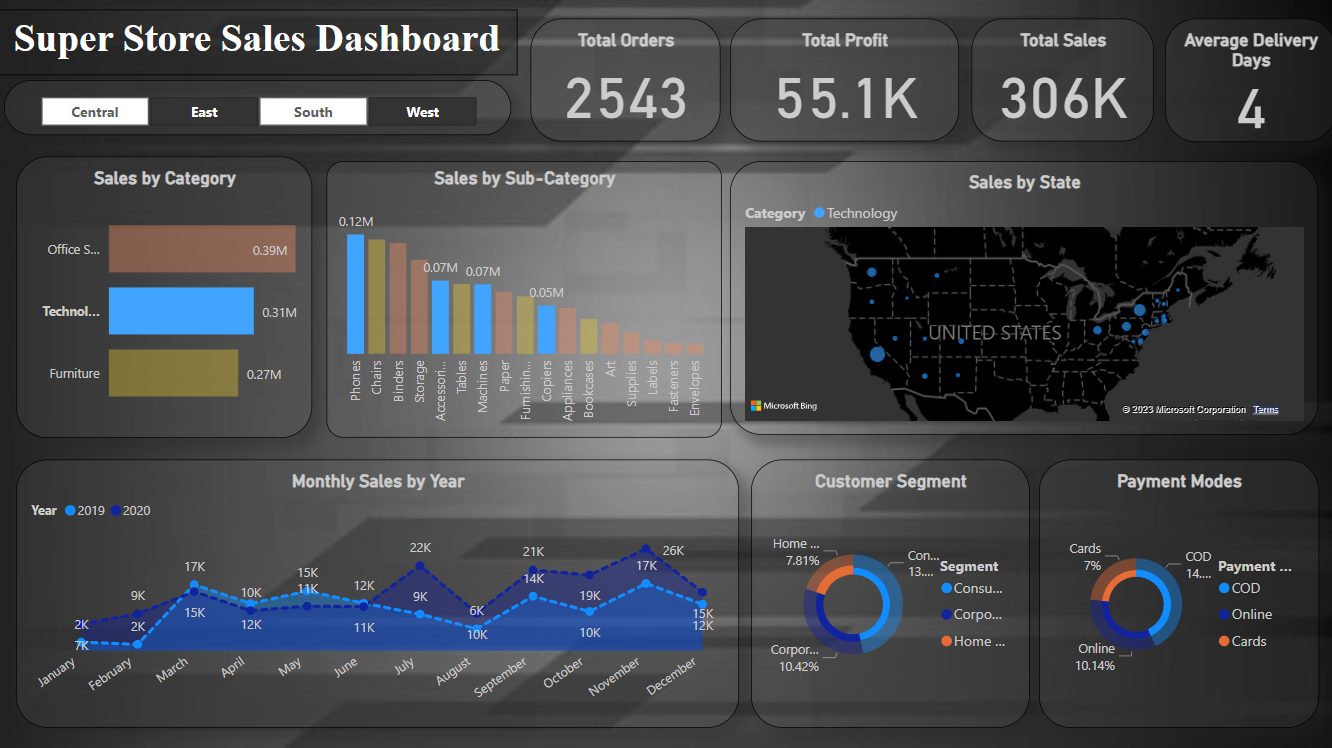

This screenshot's page, from the dashboard's own definition file:
{"tool":"powerbi","page":{"name":"Dashboard","canvas":[1280,720],"ordinal":0},"visuals":[{"type":"barChart","title":"Sales by Category","fields":{"Category":["SuperStore_Sales_Dataset.Category"],"Y":["Sum(SuperStore_Sales_Dataset.Sales)"]},"box":[20,152.9,282.9,268.6],"z":0},{"type":"columnChart","title":"Sales by Sub-Category","fields":{"Category":["SuperStore_Sales_Dataset.Sub-Category"],"Y":["Sum(SuperStore_Sales_Dataset.Sales)"]},"box":[315.7,157.1,377.1,264.3],"z":1000},{"type":"areaChart","title":"Monthly Sales by Year","fields":{"Category":["SuperStore_Sales_Dataset.Order Date.Variation.Date Hierarchy.Month"],"Series":["SuperStore_Sales_Dataset.Order Date.Variation.Date Hierarchy.Year"],"Y":["Sum(SuperStore_Sales_Dataset.Sales)"]},"box":[20,442.9,690,255.7],"z":2000},{"type":"map","title":"Sales by State","fields":{"Category":["SuperStore_Sales_Dataset.State"],"Size":["Sum(SuperStore_Sales_Dataset.Sales)"],"Series":["SuperStore_Sales_Dataset.Category"]},"box":[701.4,157.1,561.4,261.4],"z":3000},{"type":"donutChart","title":"Customer Segment","fields":{"Category":["SuperStore_Sales_Dataset.Segment"],"Y":["Sum(SuperStore_Sales_Dataset.Sales)"]},"box":[721.4,442.9,265.7,255.7],"z":4000},{"type":"donutChart","title":"Payment Modes","fields":{"Y":["Sum(SuperStore_Sales_Dataset.Sales)"],"Category":["SuperStore_Sales_Dataset.Payment Mode"]},"box":[995.7,442.9,267.1,255.7],"z":5000},{"type":"slicer","fields":{"Values":["SuperStore_Sales_Dataset.Region"]},"box":[8.6,80,484.3,52.9],"z":6000},{"type":"textbox","box":[0,12.9,498.6,62.9],"z":7000},{"type":"card","title":"Total Profit","fields":{"Values":["Sum(SuperStore_Sales_Dataset.Profit)"]},"box":[701.4,21.4,218.6,117.1],"z":8000},{"type":"card","title":"Total Sales","fields":{"Values":["Sum(SuperStore_Sales_Dataset.Sales)"]},"box":[931.4,21.4,174.3,117.1],"z":9000},{"type":"card","title":"Average Delivery Days","fields":{"Values":["Avg(SuperStore_Sales_Dataset.AvgDeliveryDate)"]},"box":[1117.1,21.4,145.7,117.1],"z":10000},{"type":"card","title":"Total Orders","fields":{"Values":["Sum(SuperStore_Sales_Dataset.Quantity)"]},"box":[511.4,21.4,181.4,117.1],"z":10001}]}

Visuals, with their boxes in screenshot pixels (x1, y1, x2, y2), scaled from the page's 1280x720 canvas onto the 1332x748 screenshot:
"Sales by Category" barChart: rect(21, 159, 315, 438)
"Sales by Sub-Category" columnChart: rect(329, 163, 721, 438)
"Monthly Sales by Year" areaChart: rect(21, 460, 739, 726)
"Sales by State" map: rect(730, 163, 1314, 435)
"Customer Segment" donutChart: rect(751, 460, 1027, 726)
"Payment Modes" donutChart: rect(1036, 460, 1314, 726)
slicer - SuperStore_Sales_Dataset.Region: rect(9, 83, 513, 138)
textbox: rect(0, 13, 519, 79)
"Total Profit" card: rect(730, 22, 957, 144)
"Total Sales" card: rect(969, 22, 1151, 144)
"Average Delivery Days" card: rect(1162, 22, 1314, 144)
"Total Orders" card: rect(532, 22, 721, 144)
